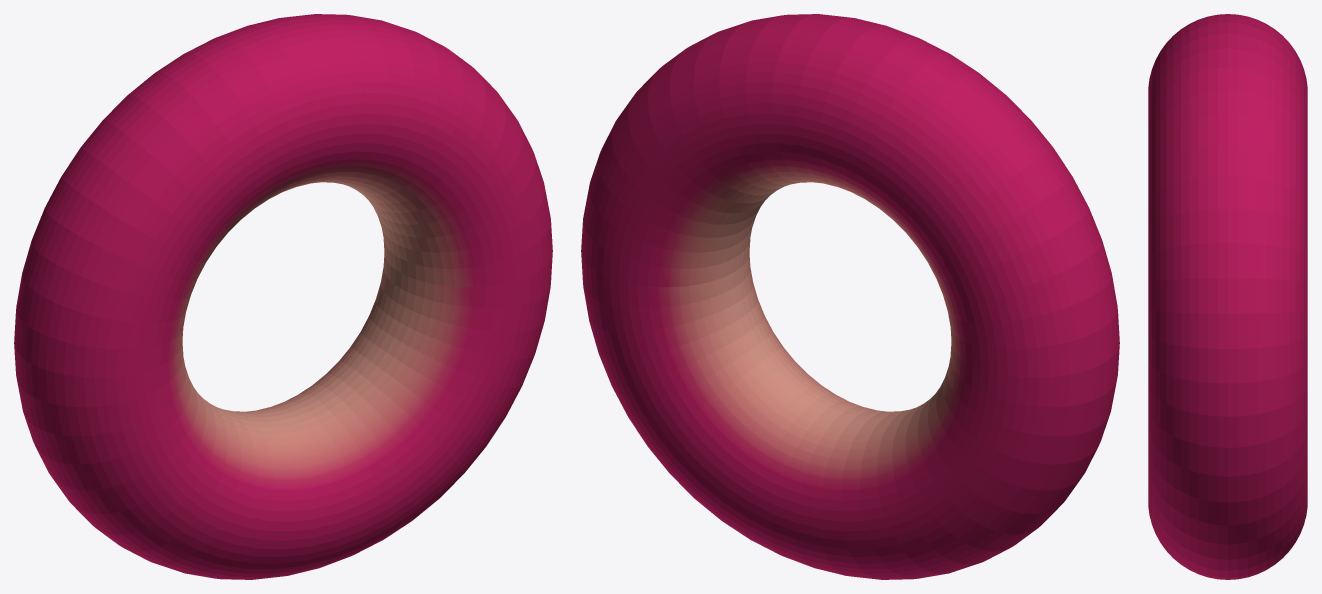
3 renders of one model, left to right at view 1: azimuth 30°, elevation 25°; view 2: azimuth 150°, elevation 25°; view 3: azimuth 270°, elevation 25°, orthographic. The views are drawn at different scales.
Visible parts, largest first — view 1: world; view 2: world; view 3: world.
Boxes of the visible parts, x1,y1,x2,y2 form: world: (14, 14, 552, 579); world: (581, 14, 1119, 579); world: (1148, 14, 1307, 579).
Size of the model in its own units: 30.67 by 30.61 by 8.65.
